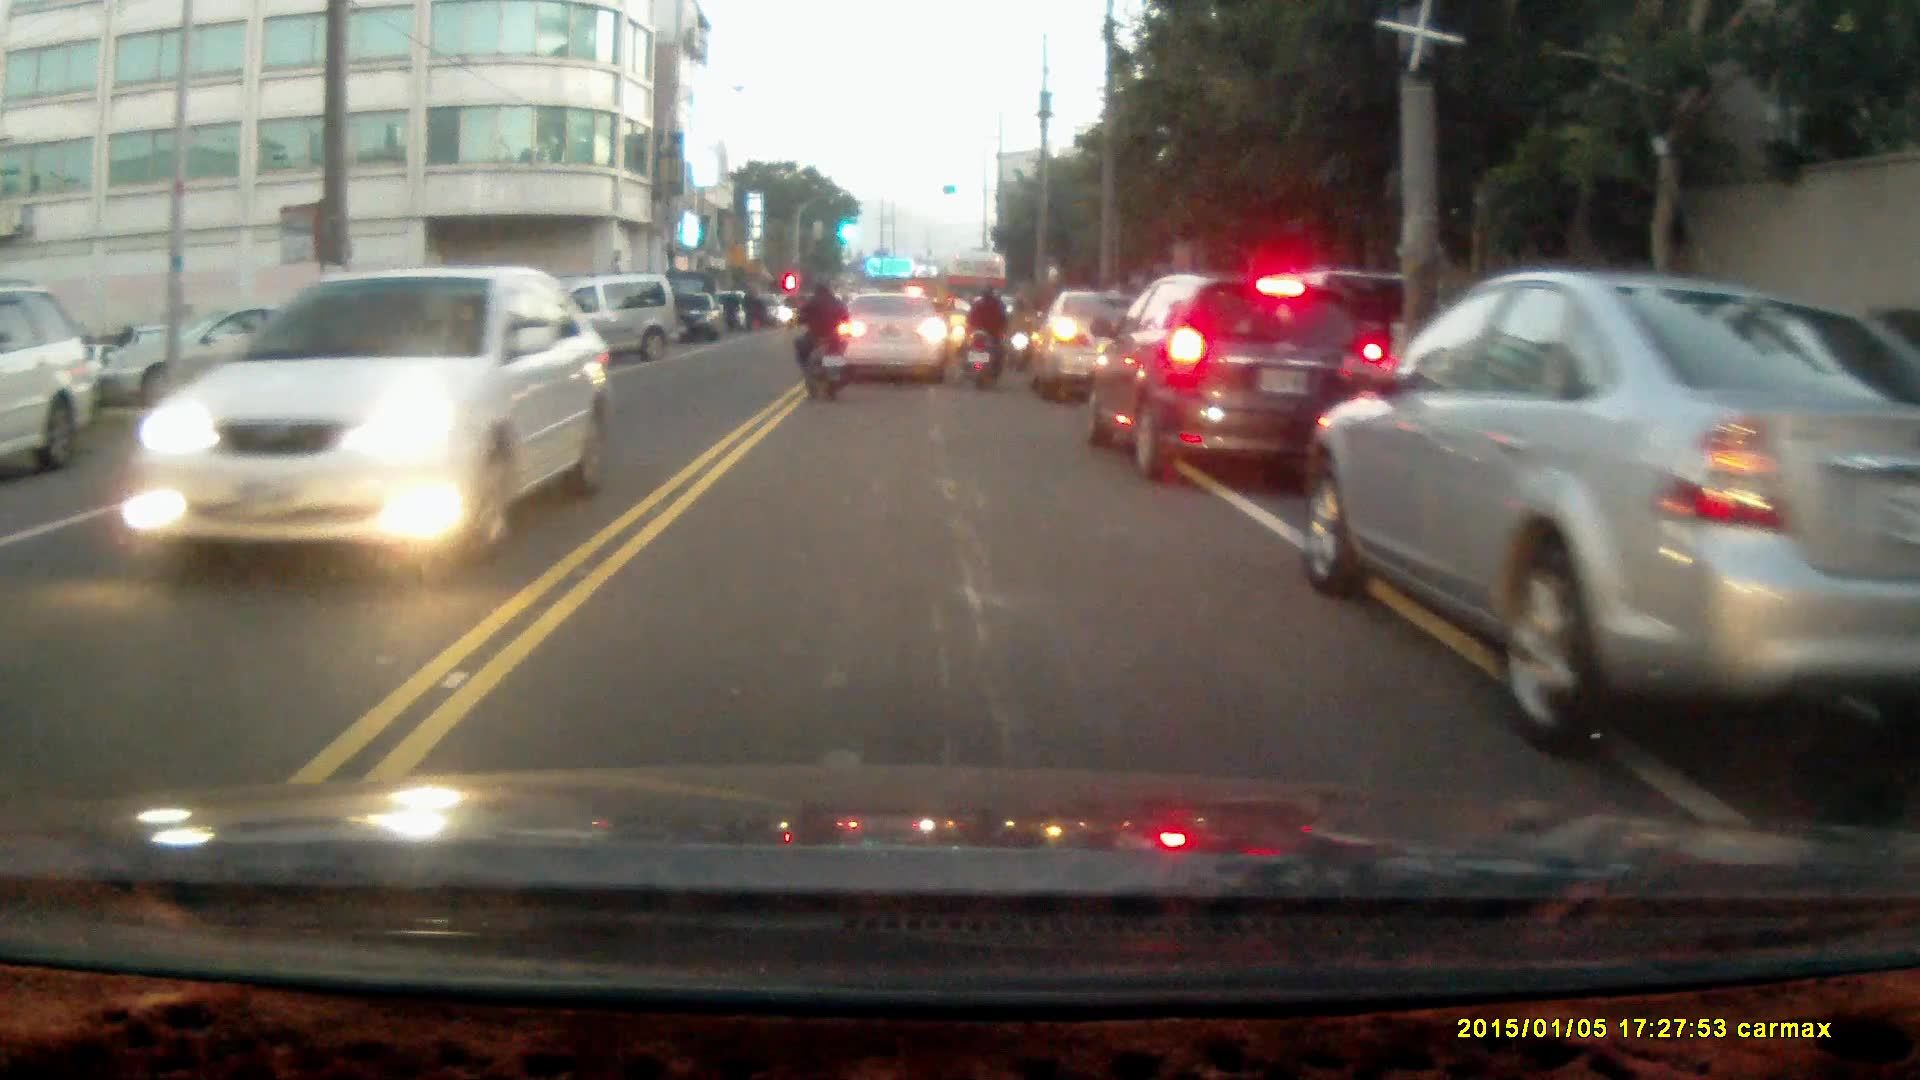rider: (790, 276, 849, 400), (960, 277, 1015, 388)
vehicle: (1318, 265, 1920, 750), (141, 264, 592, 568), (1080, 267, 1386, 480), (1, 284, 93, 476), (1025, 289, 1150, 402), (833, 289, 948, 388), (669, 292, 725, 343)
